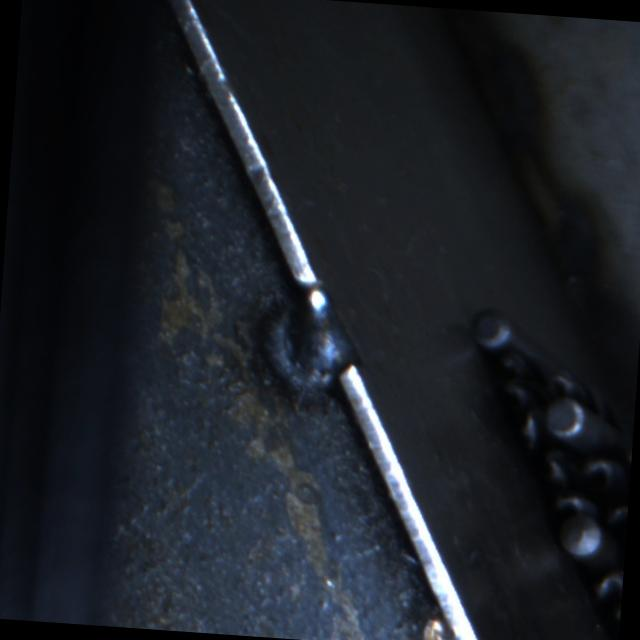tool: (558, 515, 606, 560), (544, 394, 588, 438), (472, 306, 514, 348)
tool_b: (487, 369, 541, 419), (572, 448, 626, 494), (586, 564, 623, 623), (530, 442, 577, 488), (507, 408, 547, 452), (547, 364, 585, 404), (549, 487, 587, 525), (492, 334, 529, 372), (602, 495, 628, 530)
